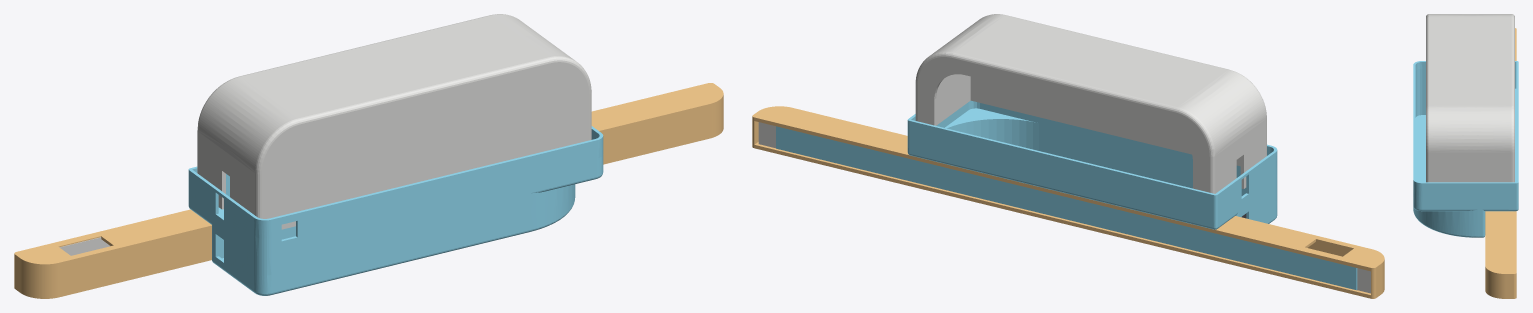
File: yukee-lamp-assembled.glb
The picture shows the model from 3 angles, left to right: view 1: azimuth 30°, elevation 25°; view 2: azimuth 150°, elevation 25°; view 3: azimuth 270°, elevation 25°; orthographic projection. The views are drawn at different scales.
Parts seen in each view (by area): view 1: backcover_33, shell_25, lampshade_28, lampshade_32, lampshade_29, backcover_46; view 2: backcover_33, shell_25, shell_45, lampshade_28, backcover_46; view 3: backcover_33, shell_25, lampshade_28, lampshade_29, lampshade_30.
Part boxes in pixels (x1,y1,x2,y2): backcover_33: (197, 14, 591, 229); shell_25: (188, 126, 603, 295); lampshade_28: (14, 83, 723, 298); lampshade_32: (20, 258, 59, 298); lampshade_29: (709, 88, 723, 138); backcover_46: (59, 237, 110, 255); backcover_33: (915, 14, 1266, 193); shell_25: (907, 100, 1277, 229); shell_45: (776, 126, 1357, 290); lampshade_28: (752, 106, 1384, 298); backcover_46: (758, 122, 1370, 293); backcover_33: (1426, 14, 1514, 182); shell_25: (1413, 61, 1518, 237); lampshade_28: (1485, 28, 1516, 298); lampshade_29: (1485, 266, 1505, 298); lampshade_30: (1513, 273, 1516, 298).
Bounding box in the file's own units: 0.3482 × 0.0792 × 0.063.
